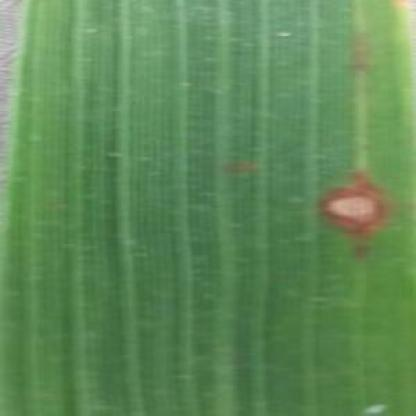Rice blast: (309, 167, 399, 266)
